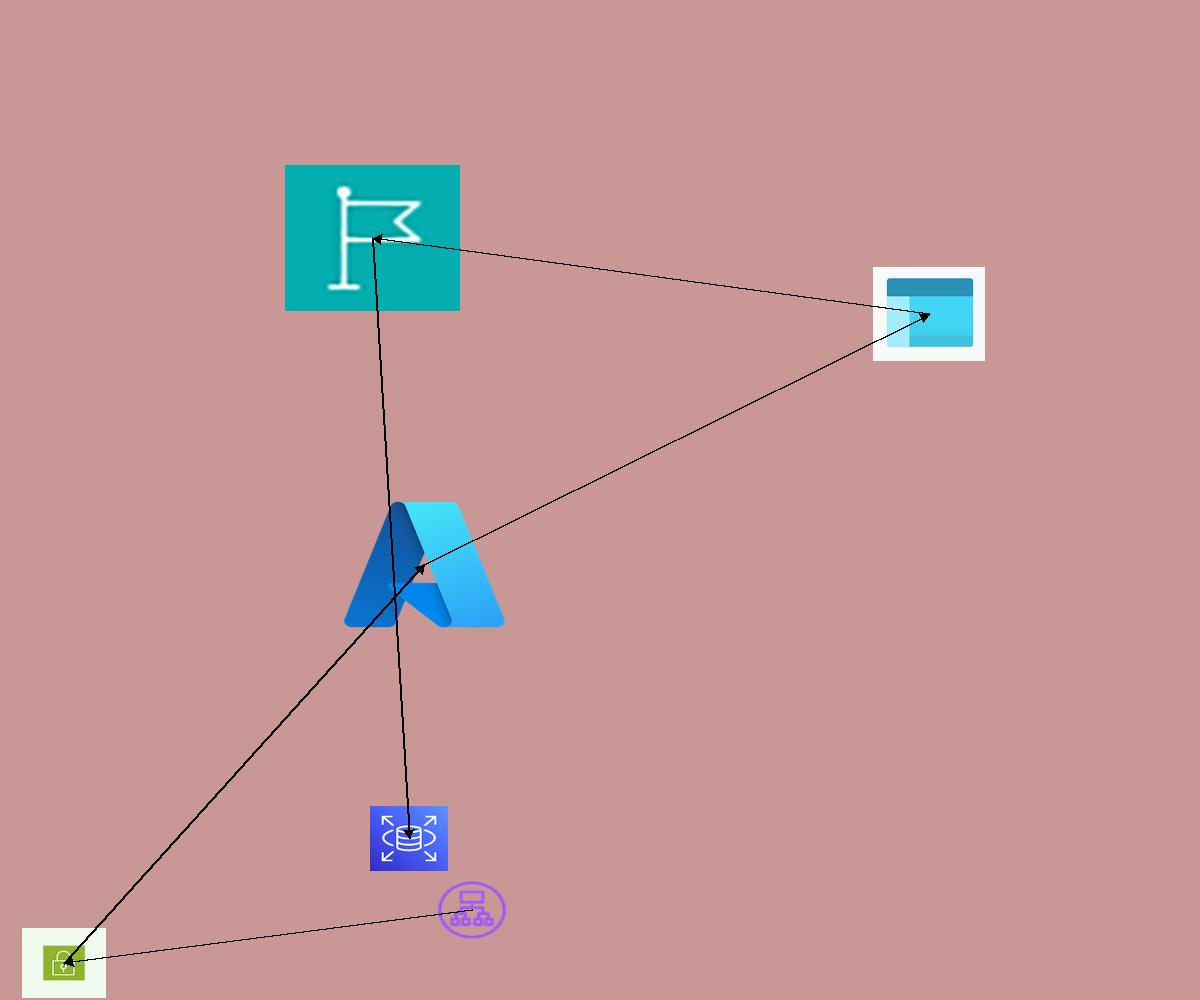AWS-Public-subnet: (22, 928, 106, 998)
AWS-RDS: (370, 806, 448, 871)
AWS-Region: (285, 165, 460, 311)
AWS-Res_Elastic-Load-Balancing_Application-Load-Balancer: (435, 879, 509, 941)
Azure_management-portal: (873, 267, 985, 361)
Azure_services: (337, 492, 512, 637)
